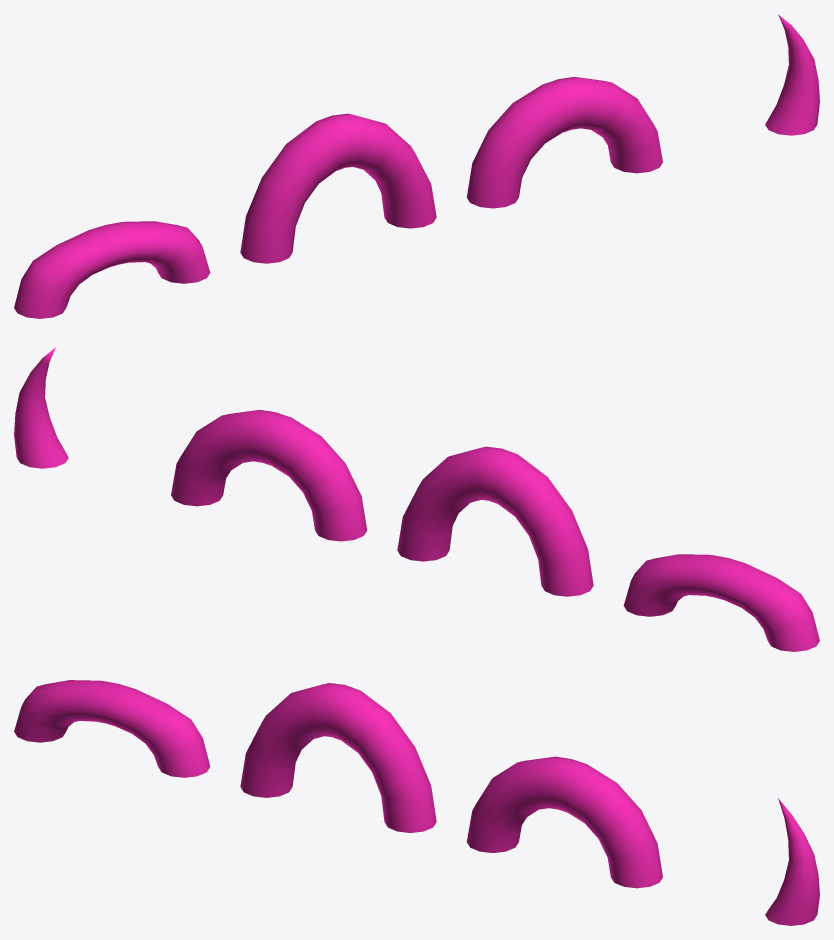
File: MD_Roots.FBX
3 renders of one model, top to bottom at view 1: azimuth 30°, elevation 25°; view 2: azimuth 150°, elevation 25°; view 3: azimuth 330°, elevation 25°, orthographic.
Visible parts, largest first — view 1: Root_001; view 2: Root_001; view 3: Root_001.
Part boxes in pixels (<box>): Root_001: <box>14,14,819,318</box>; Root_001: <box>14,347,819,651</box>; Root_001: <box>14,680,819,925</box>.
Size of the model in its own units: 7.06 by 0.9961 by 0.4.
